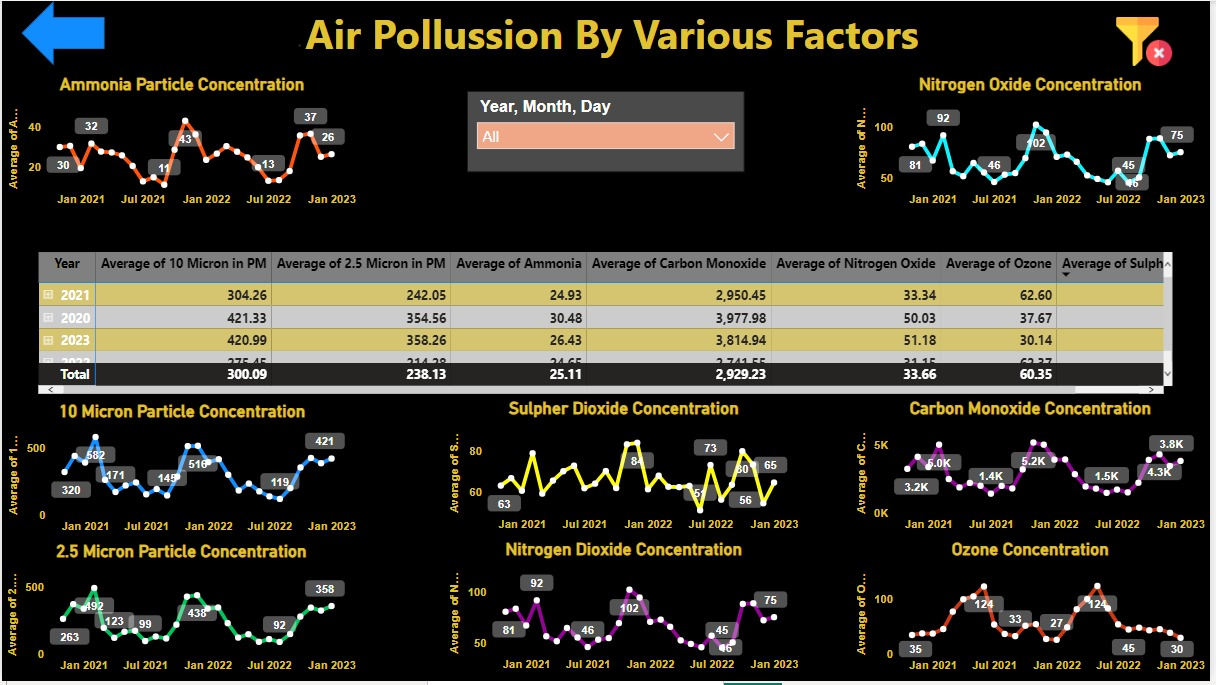

What the dashboard file says about the page in this screenshot:
{"tool":"powerbi","page":{"name":"Pollussion by Various Factors","canvas":[1280,720],"ordinal":1},"visuals":[{"type":"lineChart","title":"10 Micron Particle Concentration ","fields":{"Category":["Delhi_25-11-2020 to 24-01-2023.Date.Variation.Date Hierarchy.Year","Delhi_25-11-2020 to 24-01-2023.Date.Variation.Date Hierarchy.Quarter","Delhi_25-11-2020 to 24-01-2023.Date.Variation.Date Hierarchy.Month"],"Y":["Avg(Delhi_25-11-2020 to 24-01-2023.10 Micron in PPM)"]},"box":[1.6,424.4,378.3,147.8],"z":0},{"type":"lineChart","title":"2.5 Micron Particle Concentration ","fields":{"Category":["Delhi_25-11-2020 to 24-01-2023.Date.Variation.Date Hierarchy.Year","Delhi_25-11-2020 to 24-01-2023.Date.Variation.Date Hierarchy.Quarter","Delhi_25-11-2020 to 24-01-2023.Date.Variation.Date Hierarchy.Month"],"Y":["Avg(Delhi_25-11-2020 to 24-01-2023.2.5 Micron in PPM)"]},"box":[0,572.2,379.9,147.8],"z":1000},{"type":"lineChart","title":"Ammonia  Particle Concentration ","fields":{"Category":["Delhi_25-11-2020 to 24-01-2023.Date.Variation.Date Hierarchy.Year","Delhi_25-11-2020 to 24-01-2023.Date.Variation.Date Hierarchy.Quarter","Delhi_25-11-2020 to 24-01-2023.Date.Variation.Date Hierarchy.Month"],"Y":["Avg(Delhi_25-11-2020 to 24-01-2023.Ammonia)"]},"box":[1.6,77.9,378.3,147.8],"z":2000},{"type":"lineChart","title":"Carbon Monoxide Concentration ","fields":{"Category":["Delhi_25-11-2020 to 24-01-2023.Date.Variation.Date Hierarchy.Year","Delhi_25-11-2020 to 24-01-2023.Date.Variation.Date Hierarchy.Quarter","Delhi_25-11-2020 to 24-01-2023.Date.Variation.Date Hierarchy.Month"],"Y":["Avg(Delhi_25-11-2020 to 24-01-2023.Carbon Monoxide)"]},"box":[899.6,421.2,379.9,149.4],"z":3000},{"type":"lineChart","title":"Nitrogen Dioxide Concentration ","fields":{"Category":["Delhi_25-11-2020 to 24-01-2023.Date.Variation.Date Hierarchy.Year","Delhi_25-11-2020 to 24-01-2023.Date.Variation.Date Hierarchy.Quarter","Delhi_25-11-2020 to 24-01-2023.Date.Variation.Date Hierarchy.Month"],"Y":["Avg(Delhi_25-11-2020 to 24-01-2023.Nitrogen Dioxide)"]},"box":[468.9,570.6,379.9,147.8],"z":4000},{"type":"lineChart","title":"Nitrogen Oxide Concentration ","fields":{"Category":["Delhi_25-11-2020 to 24-01-2023.Date.Variation.Date Hierarchy.Year","Delhi_25-11-2020 to 24-01-2023.Date.Variation.Date Hierarchy.Quarter","Delhi_25-11-2020 to 24-01-2023.Date.Variation.Date Hierarchy.Month"],"Y":["Avg(Delhi_25-11-2020 to 24-01-2023.Nitrogen Dioxide)"]},"box":[899.6,77.9,379.9,147.8],"z":5000},{"type":"lineChart","title":"Ozone Concentration ","fields":{"Category":["Delhi_25-11-2020 to 24-01-2023.Date.Variation.Date Hierarchy.Year","Delhi_25-11-2020 to 24-01-2023.Date.Variation.Date Hierarchy.Quarter","Delhi_25-11-2020 to 24-01-2023.Date.Variation.Date Hierarchy.Month"],"Y":["Avg(Delhi_25-11-2020 to 24-01-2023.Ozone)"]},"box":[899.6,570.6,379.9,149.4],"z":6000},{"type":"lineChart","title":"Sulpher Dioxide Concentration ","fields":{"Category":["Delhi_25-11-2020 to 24-01-2023.Date.Variation.Date Hierarchy.Year","Delhi_25-11-2020 to 24-01-2023.Date.Variation.Date Hierarchy.Quarter","Delhi_25-11-2020 to 24-01-2023.Date.Variation.Date Hierarchy.Month"],"Y":["Avg(Delhi_25-11-2020 to 24-01-2023.Sulpher Dioxide)"]},"box":[468.9,421.2,379.9,149.4],"z":7000},{"type":"textbox","box":[162.1,0,950.5,68.3],"z":8000},{"type":"pivotTable","title":"Air Quality Index of Delhi from Nov 2020 to Jan 2023","fields":{"Rows":["Delhi_25-11-2020 to 24-01-2023.Date.Variation.Date Hierarchy.Year","Delhi_25-11-2020 to 24-01-2023.Date.Variation.Date Hierarchy.Quarter","Delhi_25-11-2020 to 24-01-2023.Date.Variation.Date Hierarchy.Month"],"Values":["Avg(Delhi_25-11-2020 to 24-01-2023.10 Micron in PPM)","Avg(Delhi_25-11-2020 to 24-01-2023.2.5 Micron in PPM)","Avg(Delhi_25-11-2020 to 24-01-2023.Ammonia)","Avg(Delhi_25-11-2020 to 24-01-2023.Carbon Monoxide)","Avg(Delhi_25-11-2020 to 24-01-2023.Nitrogen Oxide)","Avg(Delhi_25-11-2020 to 24-01-2023.Ozone)","Avg(Delhi_25-11-2020 to 24-01-2023.Sulpher Dioxide)"]},"box":[34,260.8,1211.3,160.6],"z":9000},{"type":"slicer","fields":{"Values":["Delhi_25-11-2020 to 24-01-2023.Date.Variation.Date Hierarchy.Year","Delhi_25-11-2020 to 24-01-2023.Date.Variation.Date Hierarchy.Month","Delhi_25-11-2020 to 24-01-2023.Date.Variation.Date Hierarchy.Day"]},"box":[492.7,95.4,294,85.8],"z":10000},{"type":"image","box":[1174.1,7.3,71.7,69.8],"z":11000},{"type":"shape","box":[20.2,0,88.2,68],"z":12000}]}

Visuals, with their boxes in screenshot pixels (x1, y1, x2, y2), scaled from the page's 1280x720 canvas onto the 1216x685 screenshot:
"10 Micron Particle Concentration " lineChart: (left=2, top=404, right=361, bottom=544)
"2.5 Micron Particle Concentration " lineChart: (left=0, top=544, right=361, bottom=684)
"Ammonia  Particle Concentration " lineChart: (left=2, top=74, right=361, bottom=215)
"Carbon Monoxide Concentration " lineChart: (left=855, top=401, right=1215, bottom=543)
"Nitrogen Dioxide Concentration " lineChart: (left=445, top=543, right=806, bottom=683)
"Nitrogen Oxide Concentration " lineChart: (left=855, top=74, right=1215, bottom=215)
"Ozone Concentration " lineChart: (left=855, top=543, right=1215, bottom=684)
"Sulpher Dioxide Concentration " lineChart: (left=445, top=401, right=806, bottom=543)
textbox: (left=154, top=0, right=1057, bottom=65)
"Air Quality Index of Delhi from Nov 2020 to Jan 2023" pivotTable: (left=32, top=248, right=1183, bottom=401)
slicer - Delhi_25-11-2020 to 24-01-2023.Date.Variation.Date Hierarchy.Year x Delhi_25-11-2020 to 24-01-2023.Date.Variation.Date Hierarchy.Month: (left=468, top=91, right=747, bottom=172)
image: (left=1115, top=7, right=1184, bottom=73)
shape: (left=19, top=0, right=103, bottom=65)
